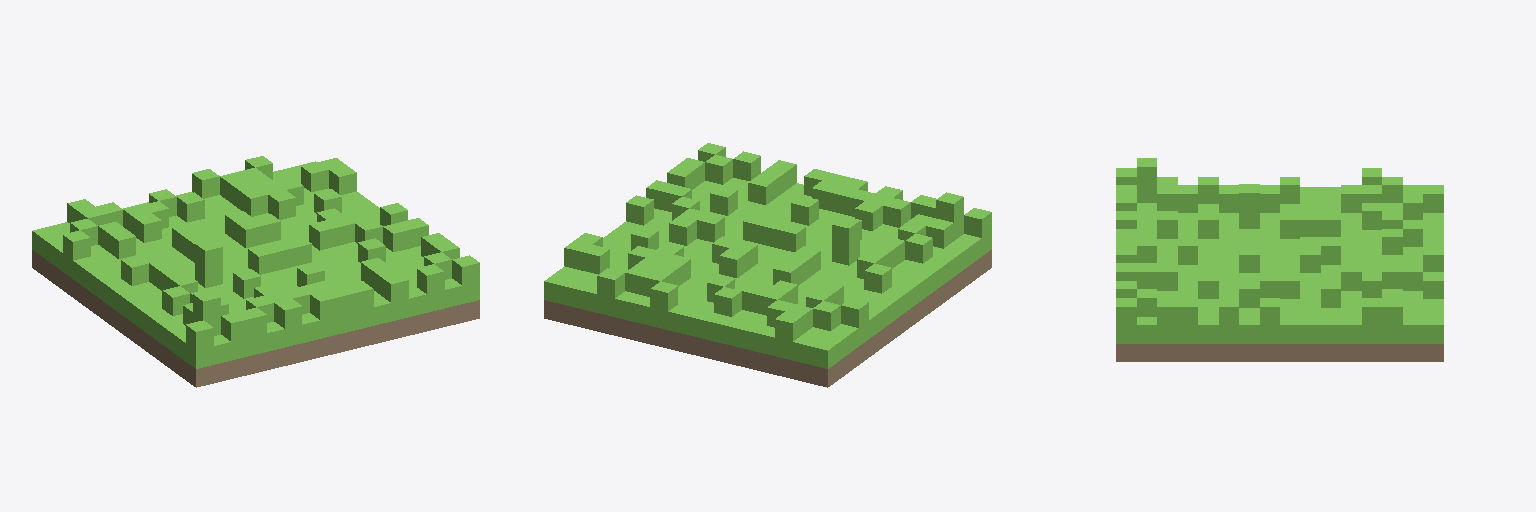
3 renders of one model, left to right at view 1: azimuth 30°, elevation 25°; view 2: azimuth 150°, elevation 25°; view 3: azimuth 270°, elevation 25°, orthographic.
Visible parts, largest first — view 1: object 1; view 2: object 1; view 3: object 1.
Part boxes in pixels (x1,y1,x2,y2): object 1: (32,156,479,387); object 1: (544,143,991,387); object 1: (1116,158,1443,361).
Bounding box in the file's own units: 1.6 × 0.4 × 1.6.
Materials: 1 (1 with a texture image).